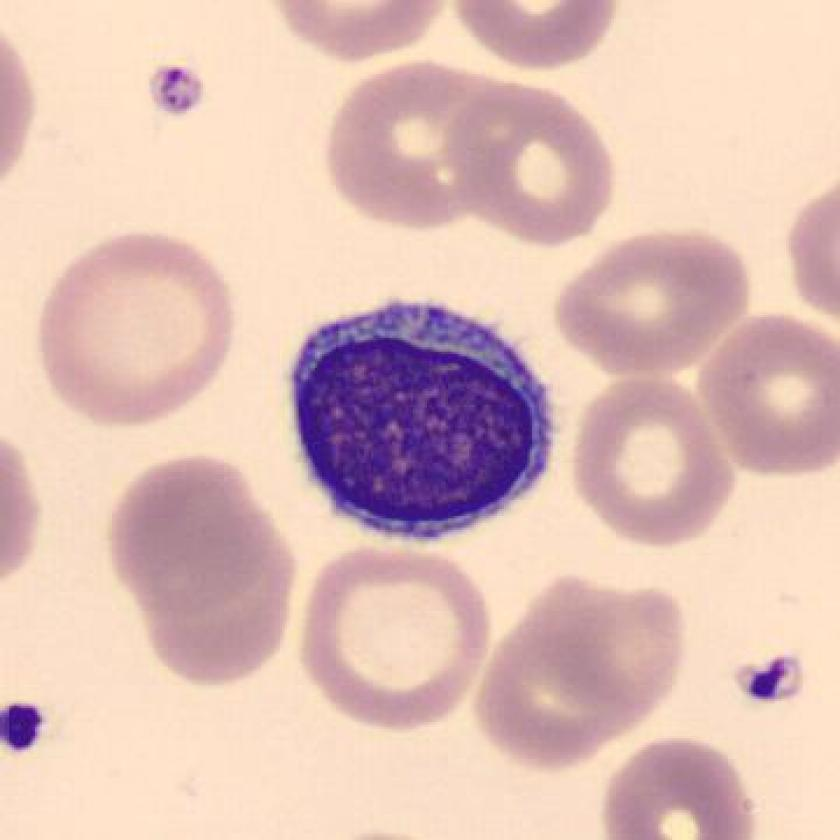lymphocyte: (276, 288, 561, 547)
